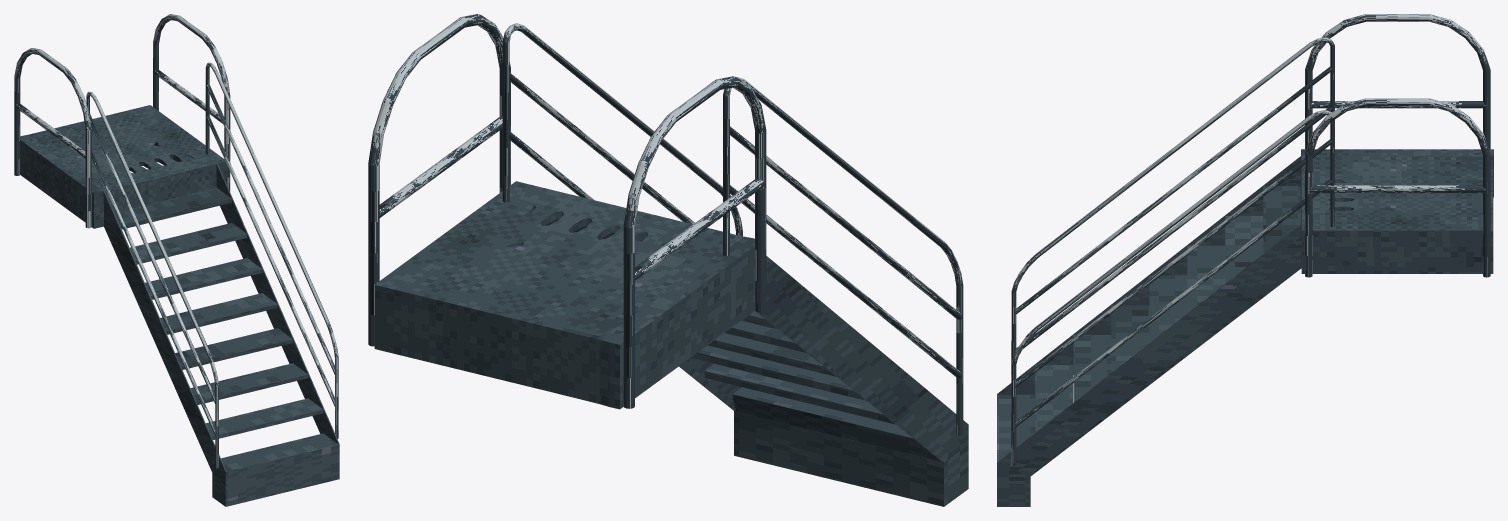
Rendered from catStairs.fbx.
3 views of the same model, side by side, from view 1: azimuth 30°, elevation 25°; view 2: azimuth 150°, elevation 25°; view 3: azimuth 270°, elevation 25° (orthographic). The views are drawn at different scales.
Visible parts, largest first — view 1: catStair, catStairRail.001, catStairRail, catTopStairRail, catTopStairRail.001; view 2: catStair, catTopStairRail, catStairRail, catTopStairRail.001, catStairRail.001; view 3: catStair, catStairRail.001, catStairRail, catTopStairRail.001, catTopStairRail.
Boxes of the visible parts, x1,y1,x2,y2 form: catStair: (20, 105, 339, 506); catStairRail.001: (205, 62, 338, 438); catStairRail: (86, 91, 218, 468); catTopStairRail: (14, 48, 91, 228); catTopStairRail.001: (153, 14, 230, 191); catStair: (374, 181, 968, 506); catTopStairRail: (623, 76, 766, 408); catStairRail: (723, 77, 963, 435); catTopStairRail.001: (368, 14, 510, 346); catStairRail.001: (502, 23, 742, 236); catStair: (997, 149, 1493, 506); catStairRail.001: (1011, 110, 1334, 466); catStairRail: (1011, 37, 1334, 382); catTopStairRail.001: (1305, 98, 1490, 277); catTopStairRail: (1305, 14, 1490, 149).
Bounding box in the file's own units: 216 × 518 × 479.
Materials: 2 (2 with a texture image).
